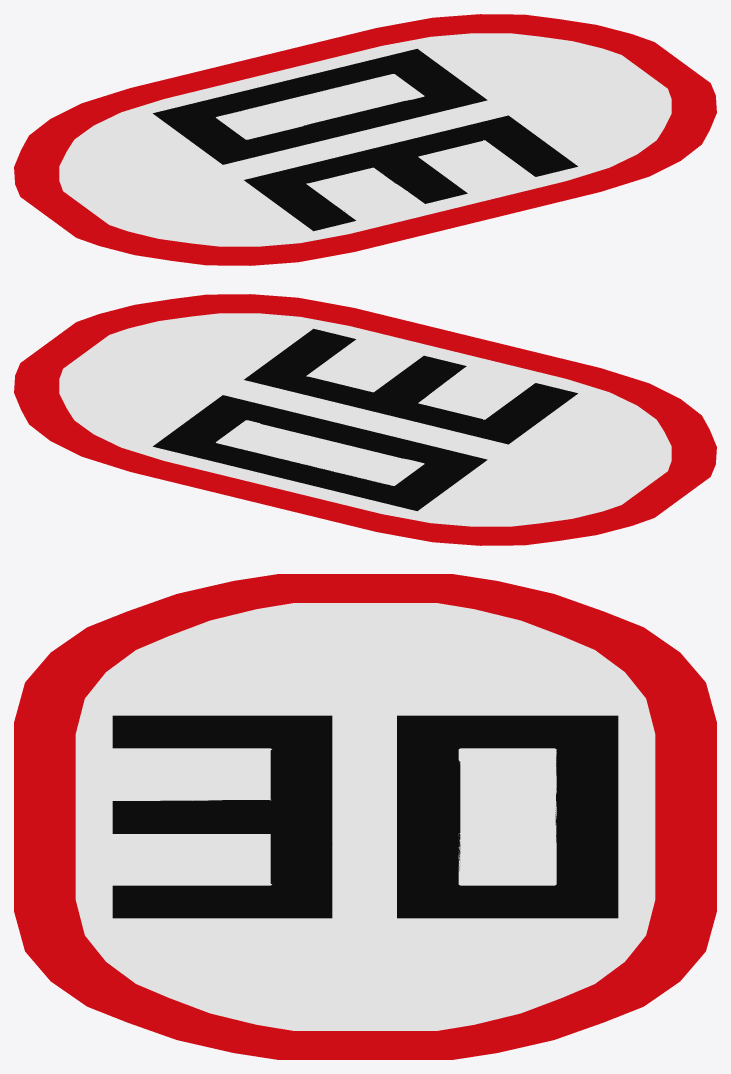
Rendered from SpeedLimitingSign30.fbx.
3 renders of one model, top to bottom at view 1: azimuth 30°, elevation 25°; view 2: azimuth 150°, elevation 25°; view 3: azimuth 270°, elevation 25°, orthographic. The views are drawn at different scales.
Parts seen in each view (by area): view 1: SpeedLimitSign30; view 2: SpeedLimitSign30; view 3: SpeedLimitSign30.
Part boxes in pixels (x1,y1,x2,y2): SpeedLimitSign30: (14,14,716,265); SpeedLimitSign30: (14,294,716,545); SpeedLimitSign30: (14,574,716,1059).
Bounding box in the file's own units: 25.19 × 6.19e-06 × 15.41.
